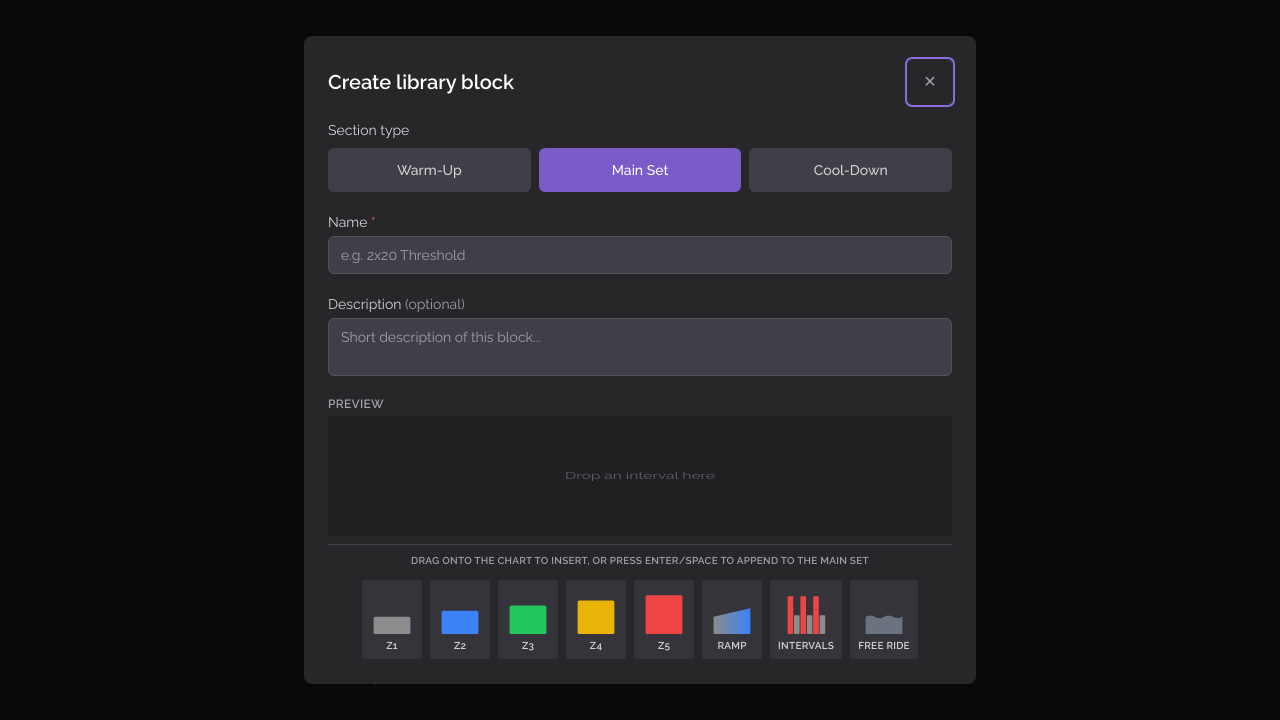
Test: CreateBlockModal › form validation › shows a validation error when there are no intervals and Save is clicked
The image size is (1280, 720).
Type "My Block" into the field with placeholder "e.g. 2x20 Threshold" at (640, 255), box [328,236,952,274]
(page scrolled)
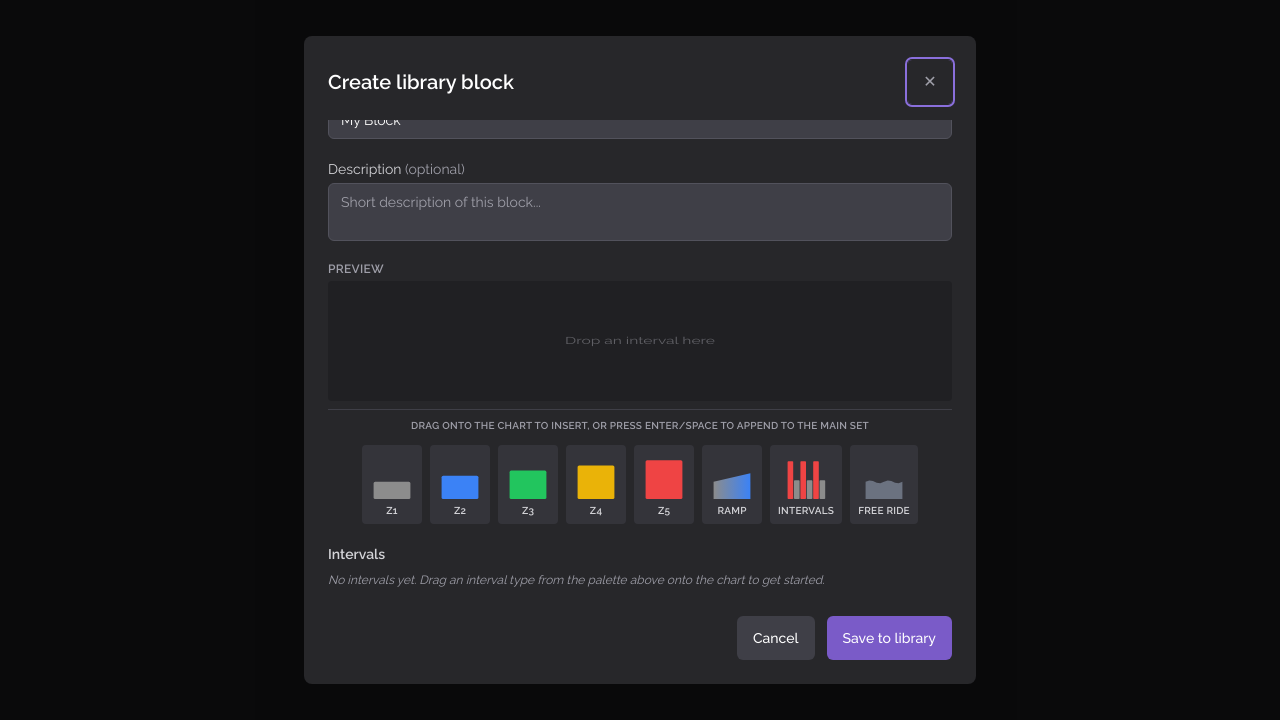
Click the button "Save to library" at (889, 638), box [827,616,952,660]
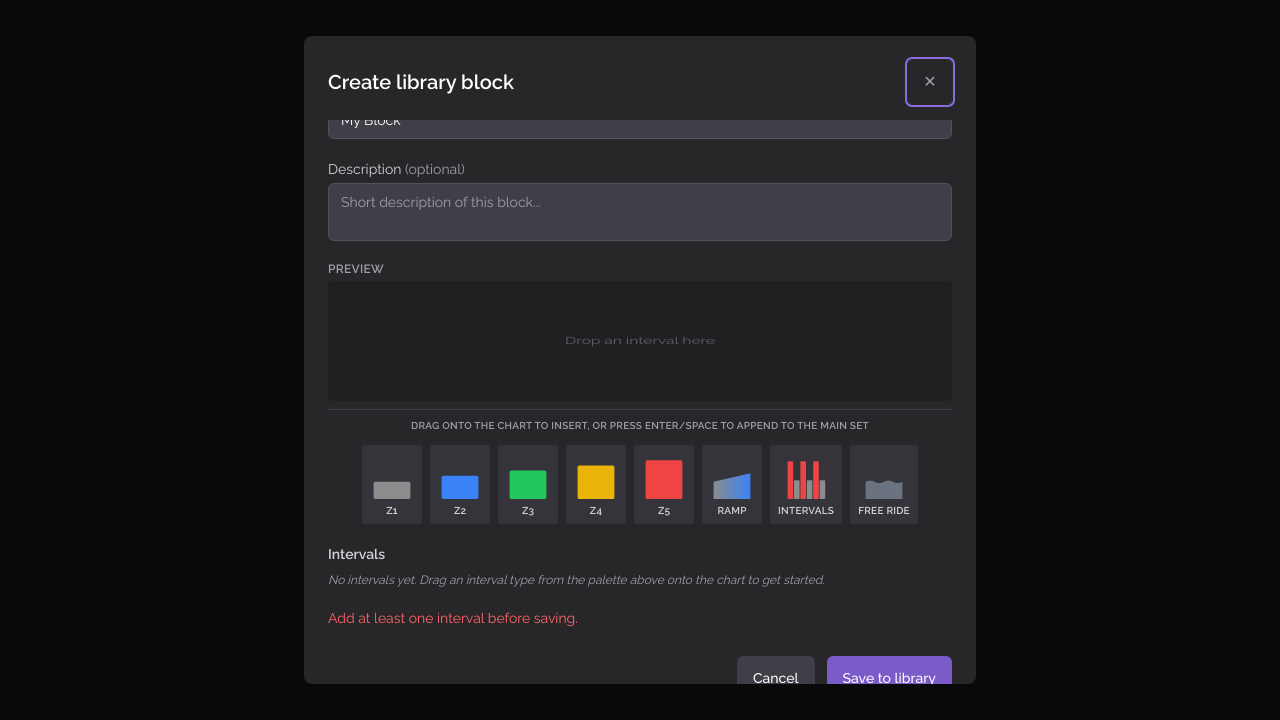
expect the message reads "Add at least one interval before saving.": met, box [328,610,578,626]
